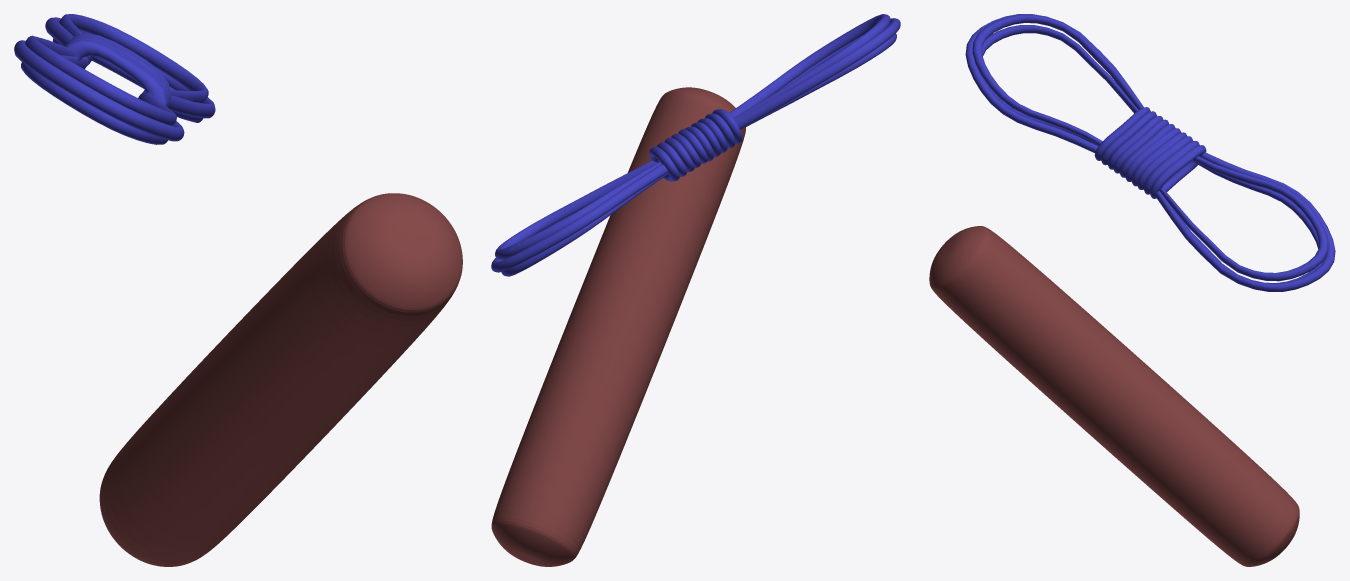
File: stick_rope.glb
3 renders of one model, left to right at view 1: azimuth 30°, elevation 25°; view 2: azimuth 150°, elevation 25°; view 3: azimuth 270°, elevation 25°, orthographic. The views are drawn at different scales.
Visible parts, largest first — view 1: Cylinder.001, SpareRope.001; view 2: Cylinder.001, SpareRope.001; view 3: Cylinder.001, SpareRope.001.
Boxes of the visible parts, bbox=[...] form: Cylinder.001: bbox=[99, 193, 462, 566]; SpareRope.001: bbox=[14, 14, 215, 144]; Cylinder.001: bbox=[491, 87, 745, 566]; SpareRope.001: bbox=[491, 14, 900, 276]; Cylinder.001: bbox=[929, 226, 1299, 566]; SpareRope.001: bbox=[965, 14, 1335, 291].
Bounding box in the file's own units: 0.4653 × 0.8371 × 0.6785.
